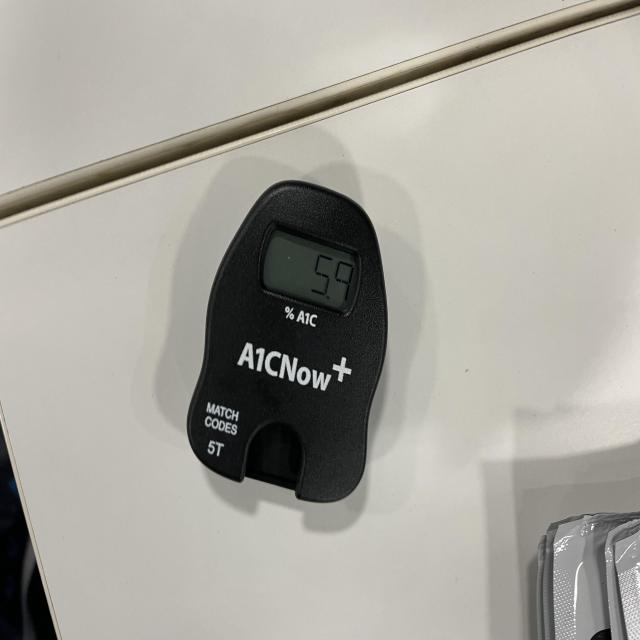hba1c: (184, 181, 389, 509)
